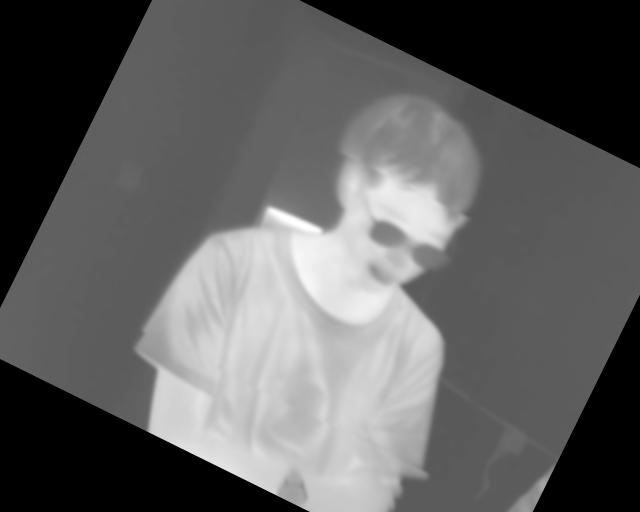face: (284, 70, 512, 320)
